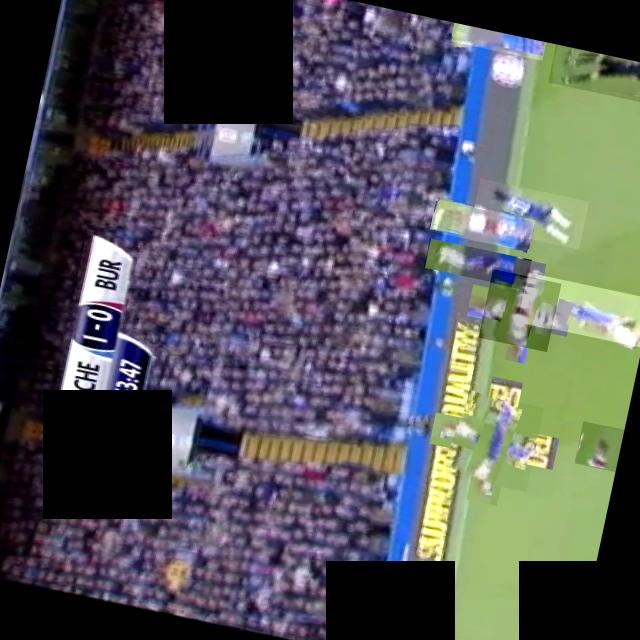referee: (547, 43, 640, 109)
soccer-player: (444, 389, 544, 491), (517, 271, 640, 346), (470, 177, 589, 248), (478, 268, 561, 350), (429, 198, 535, 250), (424, 237, 532, 288), (450, 22, 546, 59), (574, 420, 624, 471)
